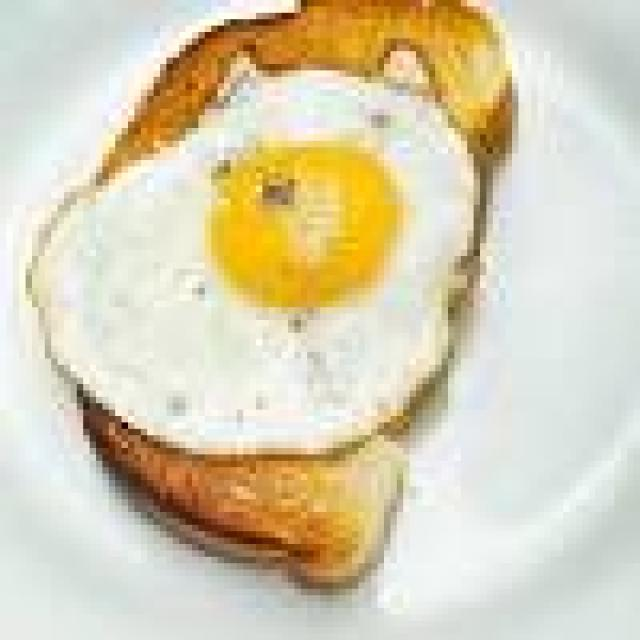Egg: (30, 60, 478, 451)
